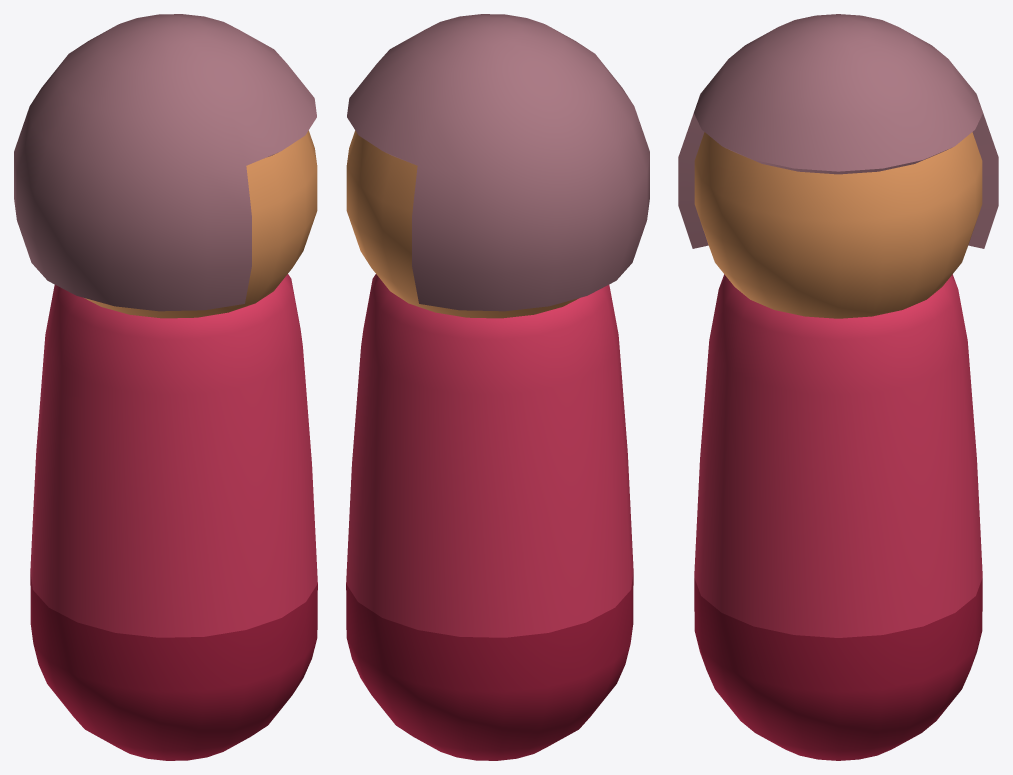
Rendered from kirmizi1.fbx.
3 views of the same model, side by side, from view 1: azimuth 30°, elevation 25°; view 2: azimuth 150°, elevation 25°; view 3: azimuth 270°, elevation 25° (orthographic).
Visible parts, largest first — view 1: kirmizi1; view 2: kirmizi1; view 3: kirmizi1.
Boxes of the visible parts, x1=… form: kirmizi1: x1=14, y1=14, x2=317, y2=760; kirmizi1: x1=346, y1=14, x2=649, y2=760; kirmizi1: x1=678, y1=14, x2=998, y2=760.
Bounding box in the file's own units: 1.97 × 5.13 × 2.07.
